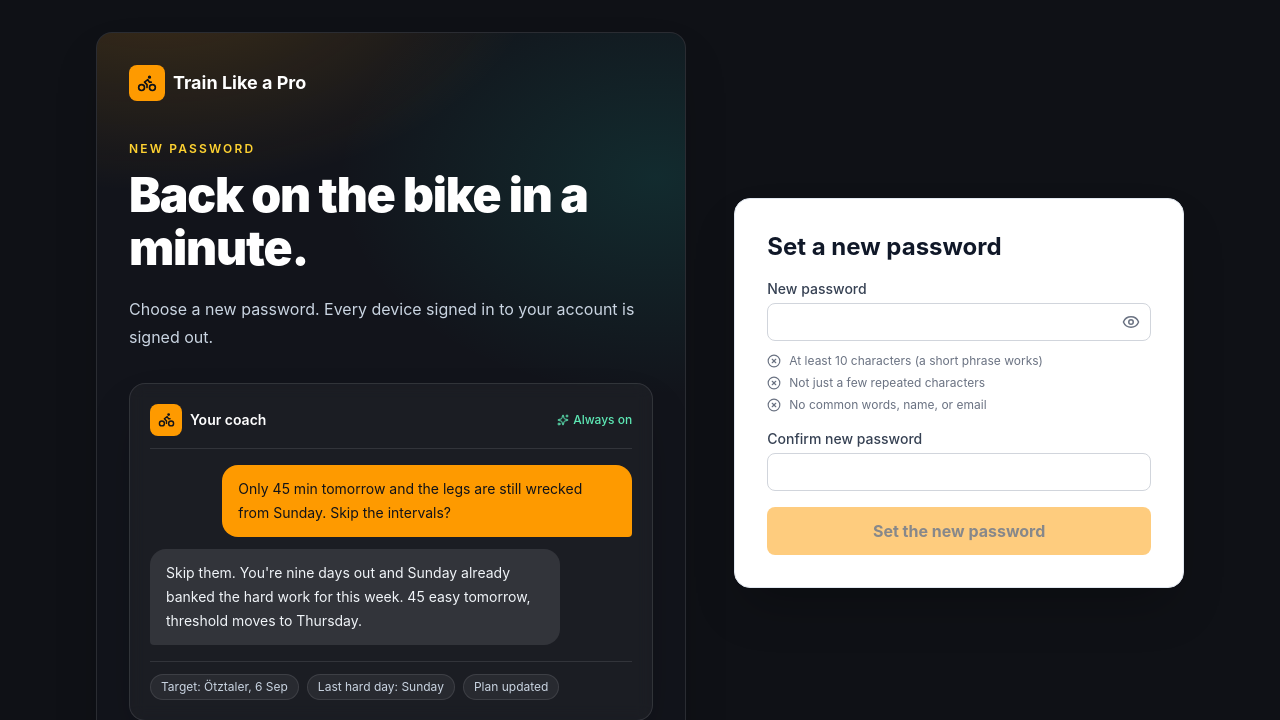
it: ResetPasswordPage › says when the link is spent and offers a new one
Type "gravel climbs at dawn" into the password field labelled "New password" at [959, 322], box 767,303 -> 1151,341
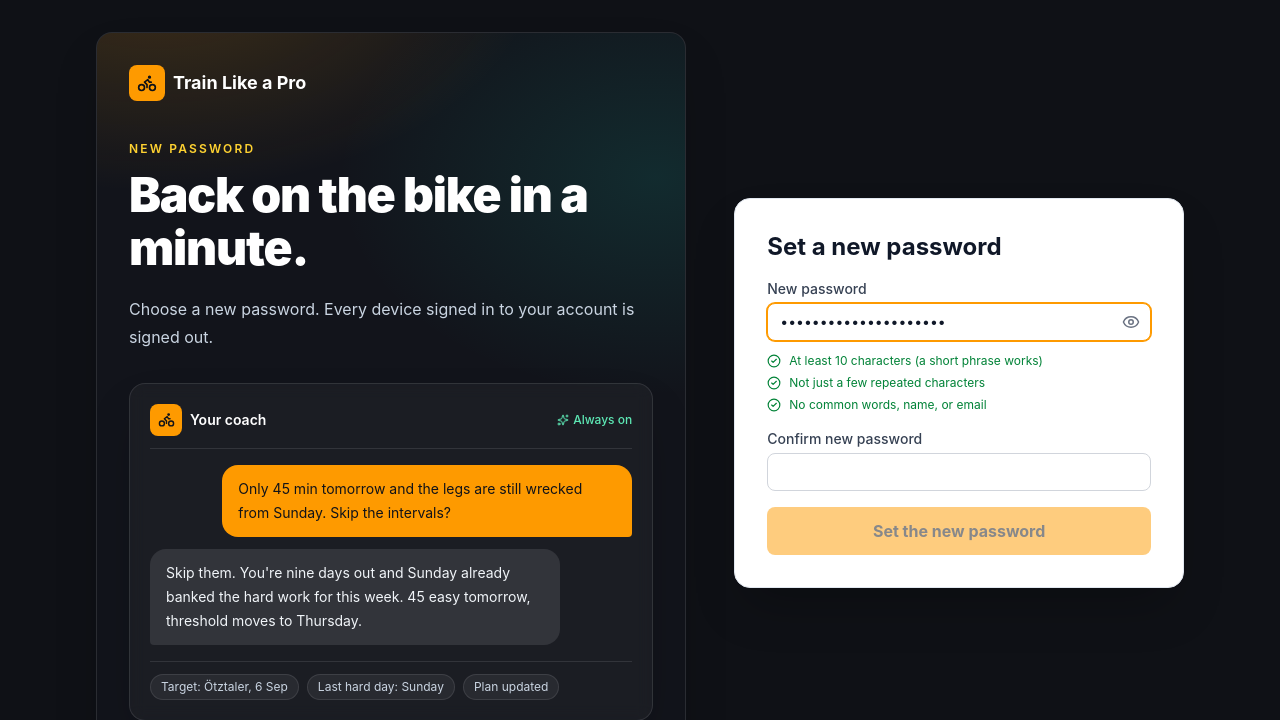
Type "gravel climbs at dawn" into the password field labelled "Confirm new password" at [959, 472], box 767,453 -> 1151,491
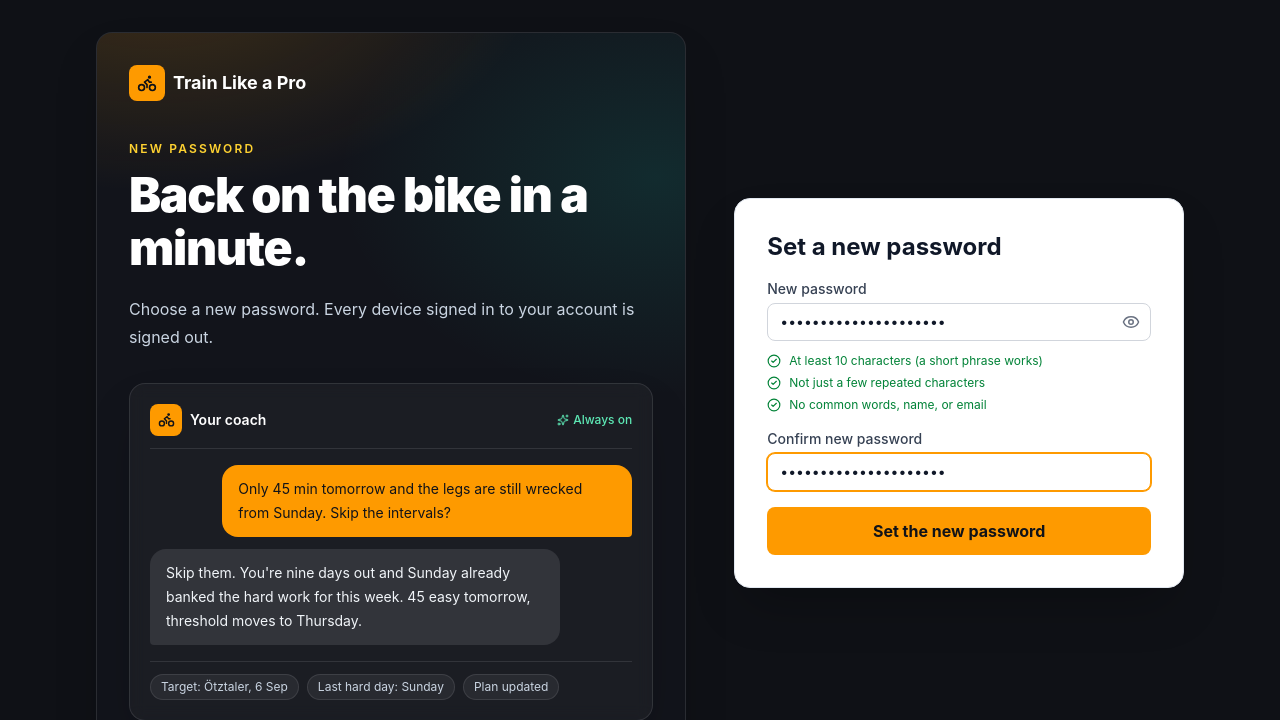
Click the button "Set the new password" at [959, 531], box 767,507 -> 1151,555
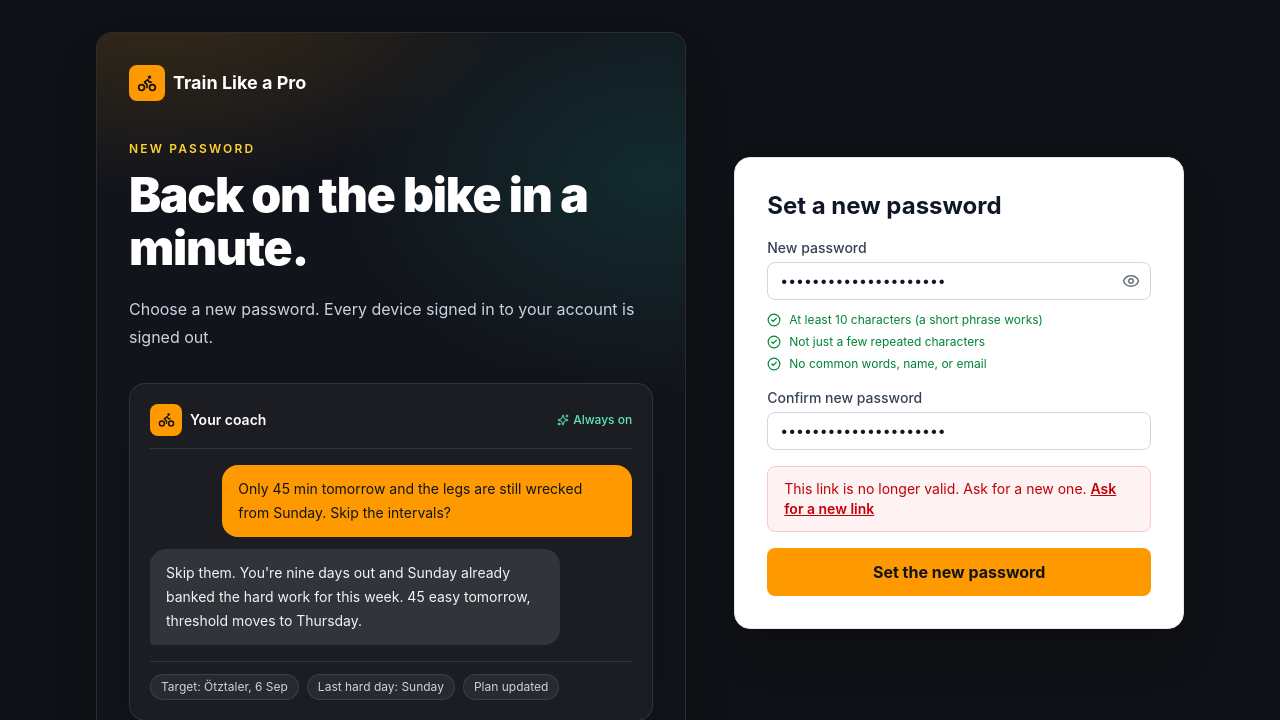
Expected: the message shows "no longer valid", 784,480 -> 1087,497
